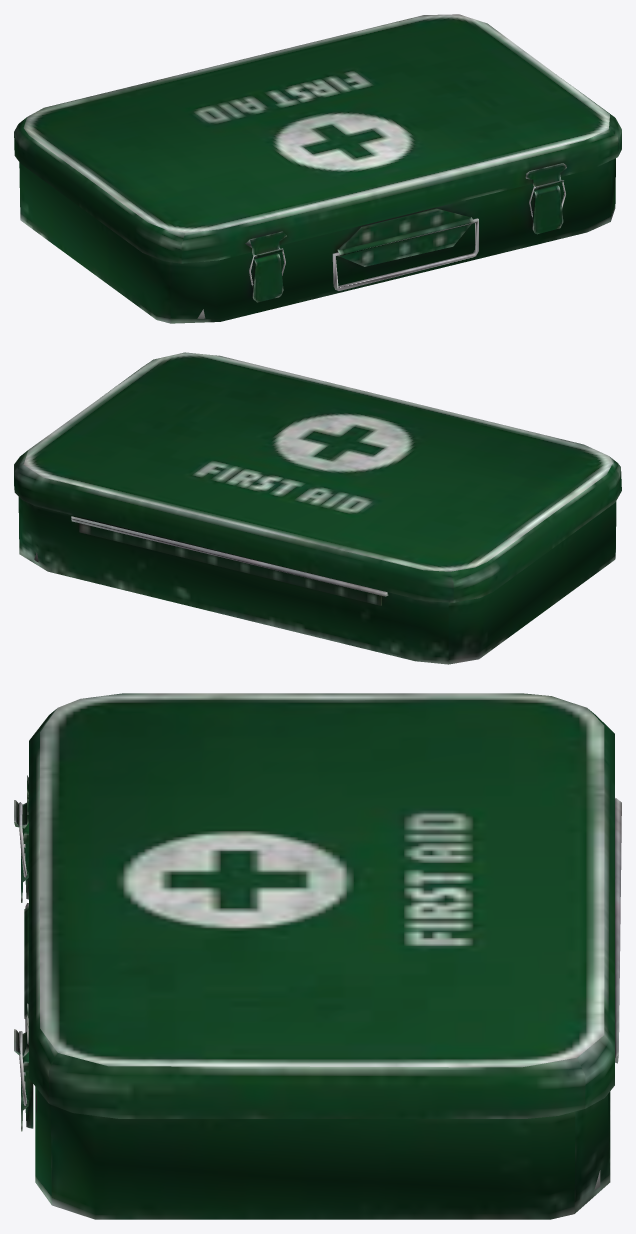
The model's file is medical_box.glb.
3 renders of one model, top to bottom at view 1: azimuth 30°, elevation 25°; view 2: azimuth 150°, elevation 25°; view 3: azimuth 270°, elevation 25°, orthographic. The views are drawn at different scales.
Visible parts, largest first — view 1: medical_box_lid, medical_box, medical_box_latch, medical_box_handle; view 2: medical_box_lid, medical_box; view 3: medical_box_lid, medical_box.
Part boxes in pixels (box(x1,y1,x2,y2)): medical_box_lid: box(14, 14, 621, 263); medical_box: box(19, 158, 615, 323); medical_box_latch: box(252, 185, 563, 302); medical_box_handle: box(332, 218, 478, 290); medical_box_lid: box(14, 352, 621, 602); medical_box: box(18, 497, 616, 664); medical_box_lid: box(14, 693, 614, 1118); medical_box: box(24, 798, 621, 1219).
Size of the model in its own units: 0.5255 by 0.0967 by 0.3501.
Materials: 1 (1 with a texture image).
